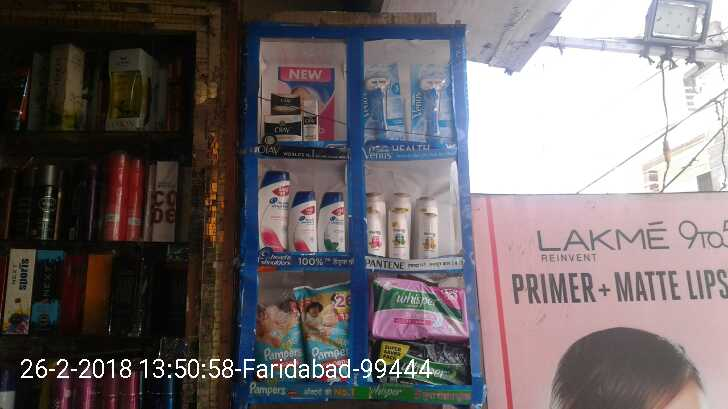venus: (412, 64, 452, 140), (366, 63, 405, 140)
